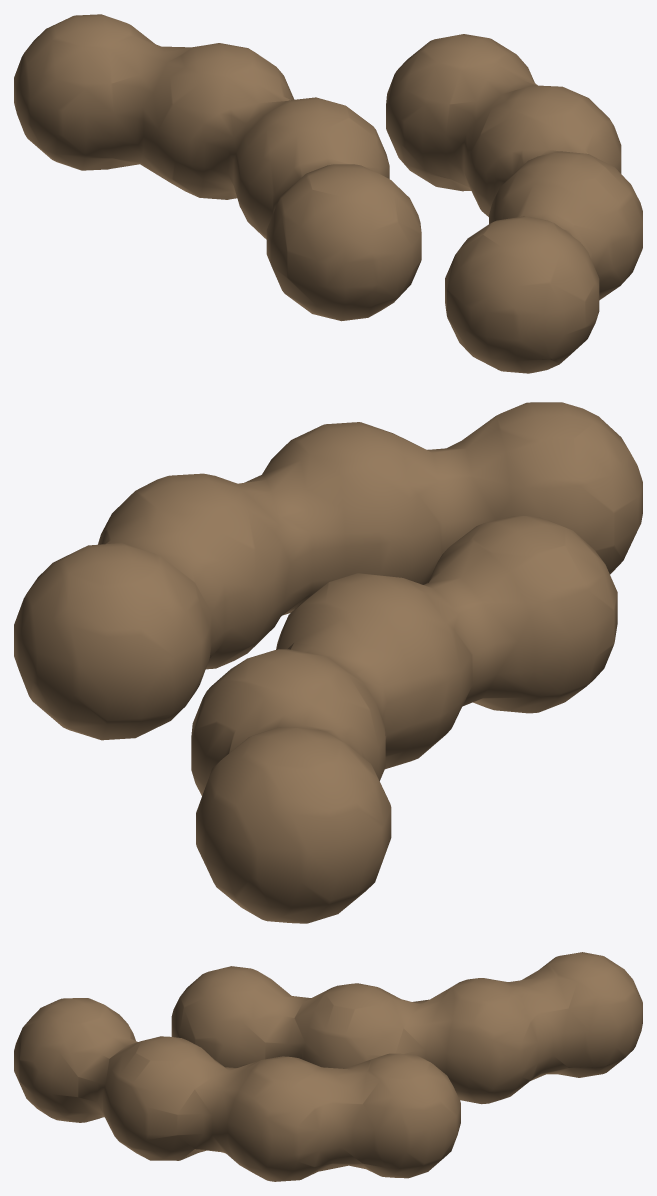
The model's file is Tamarind.fbx.
3 views of the same model, one above another, from view 1: azimuth 30°, elevation 25°; view 2: azimuth 150°, elevation 25°; view 3: azimuth 270°, elevation 25° (orthographic). The views are drawn at different scales.
Parts seen in each view (by area): view 1: Tamarind; view 2: Tamarind; view 3: Tamarind.
Boxes of the visible parts, x1,y1,x2,y2 form: Tamarind: [14, 14, 642, 373]; Tamarind: [14, 402, 642, 923]; Tamarind: [14, 952, 642, 1181].
Bounding box in the file's own units: 31.52 × 10.66 × 53.56.
